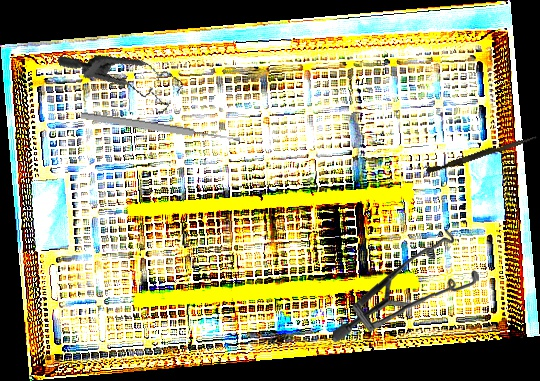Pusher: (425, 131, 538, 177)
Speculum: (333, 227, 480, 345), (57, 27, 189, 137)
Surgical Spoon: (80, 110, 241, 146)
